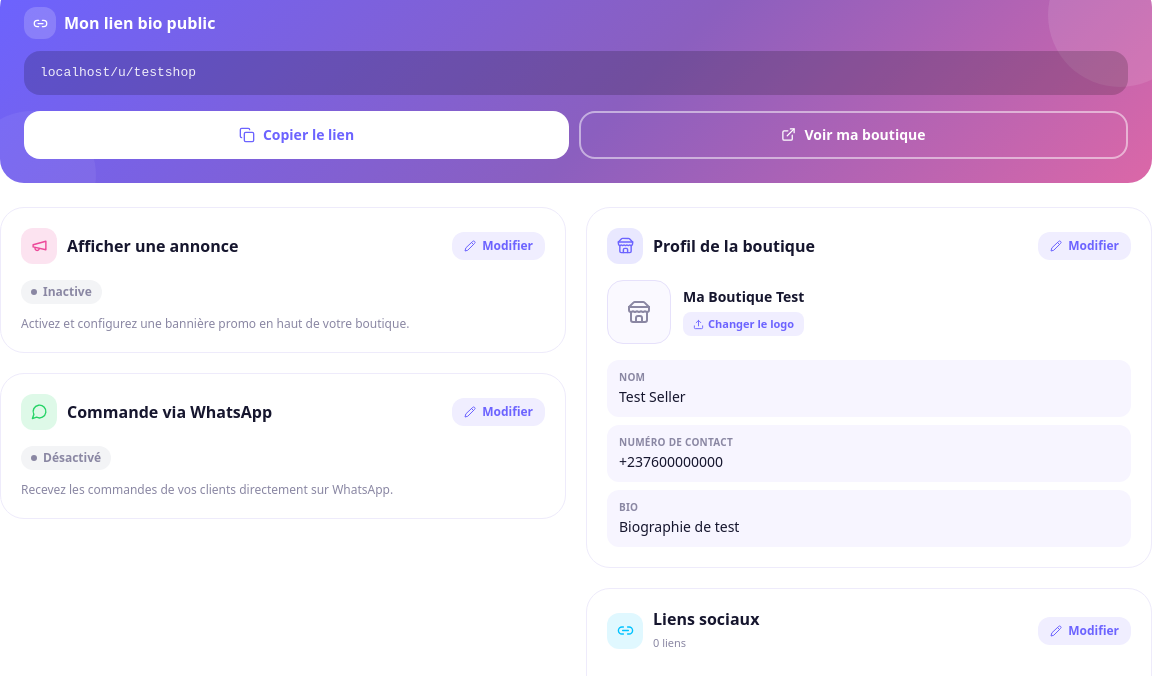
Test: BioLink — liens sociaux › en mode édition, "Ajouter un lien" ajoute une ligne
Step 1. Click the button "Modifier" in the row of "Liens sociaux" → (1085, 630), box [1038,616,1131,644]
(page scrolled)
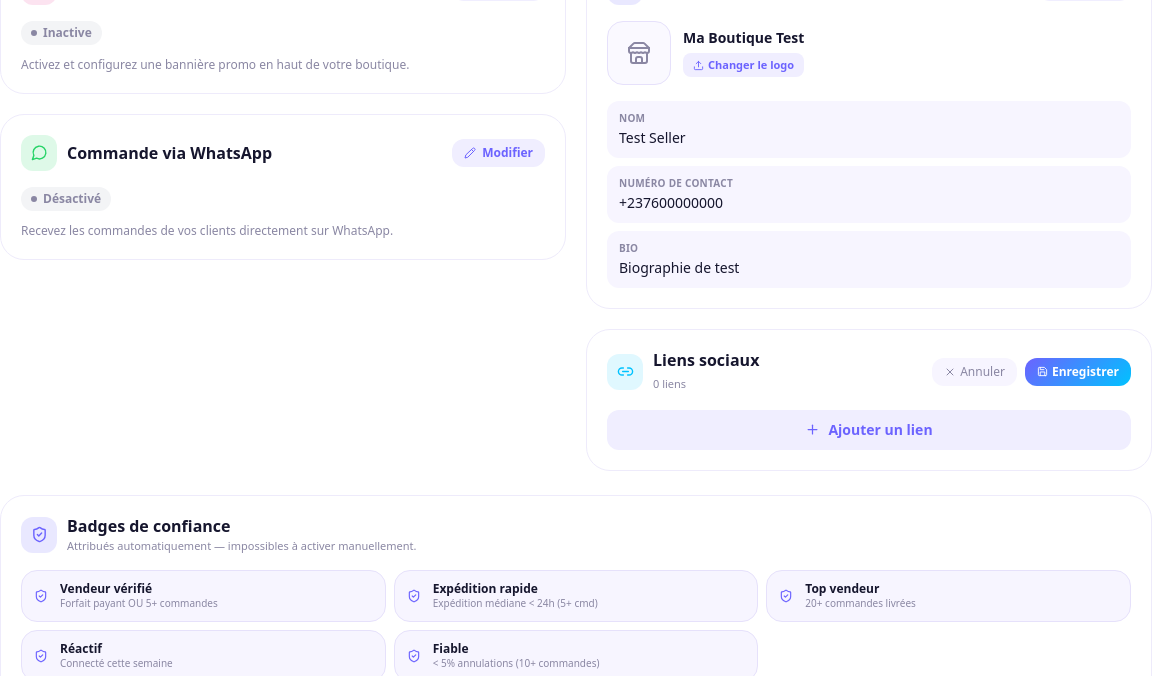
# Cliquer sur Ajouter un lien
Step 2. Click the button "Ajouter un lien" → (869, 430), box [607,410,1131,450]
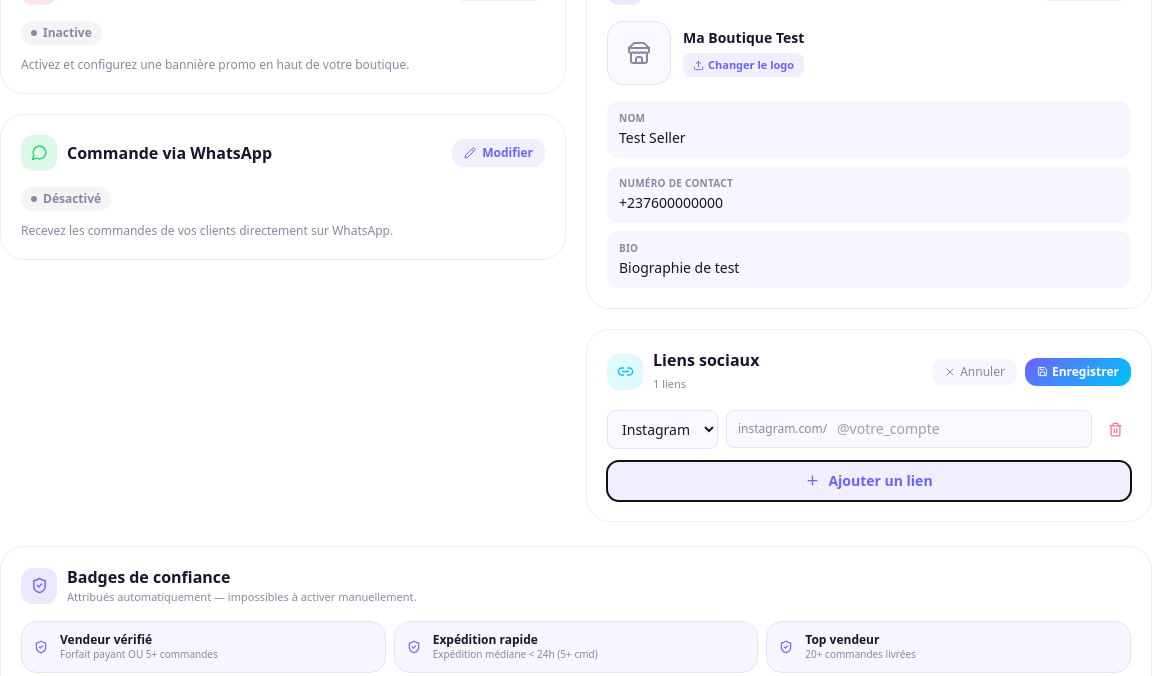
expect the number of dropdowns is 1: met, box [607,410,718,448]
